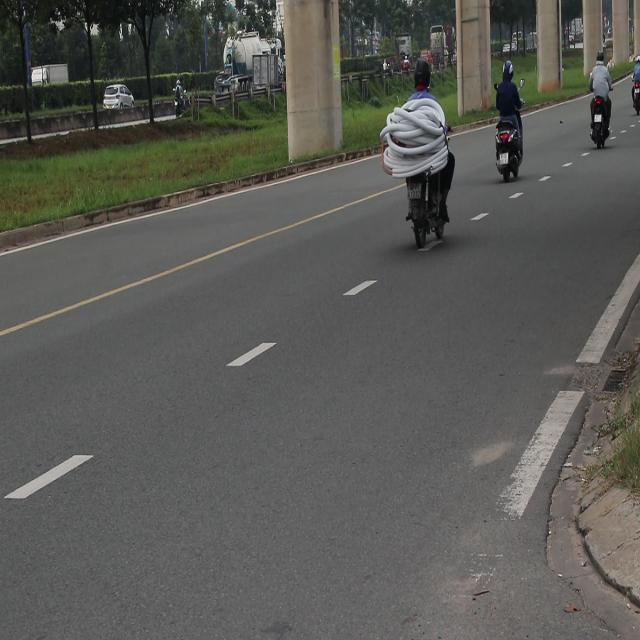car: (105, 85, 136, 109)
motorbike: (402, 160, 453, 254), (496, 117, 523, 181), (584, 94, 609, 153), (172, 85, 196, 133), (632, 72, 640, 138)
truck: (252, 54, 292, 110)
